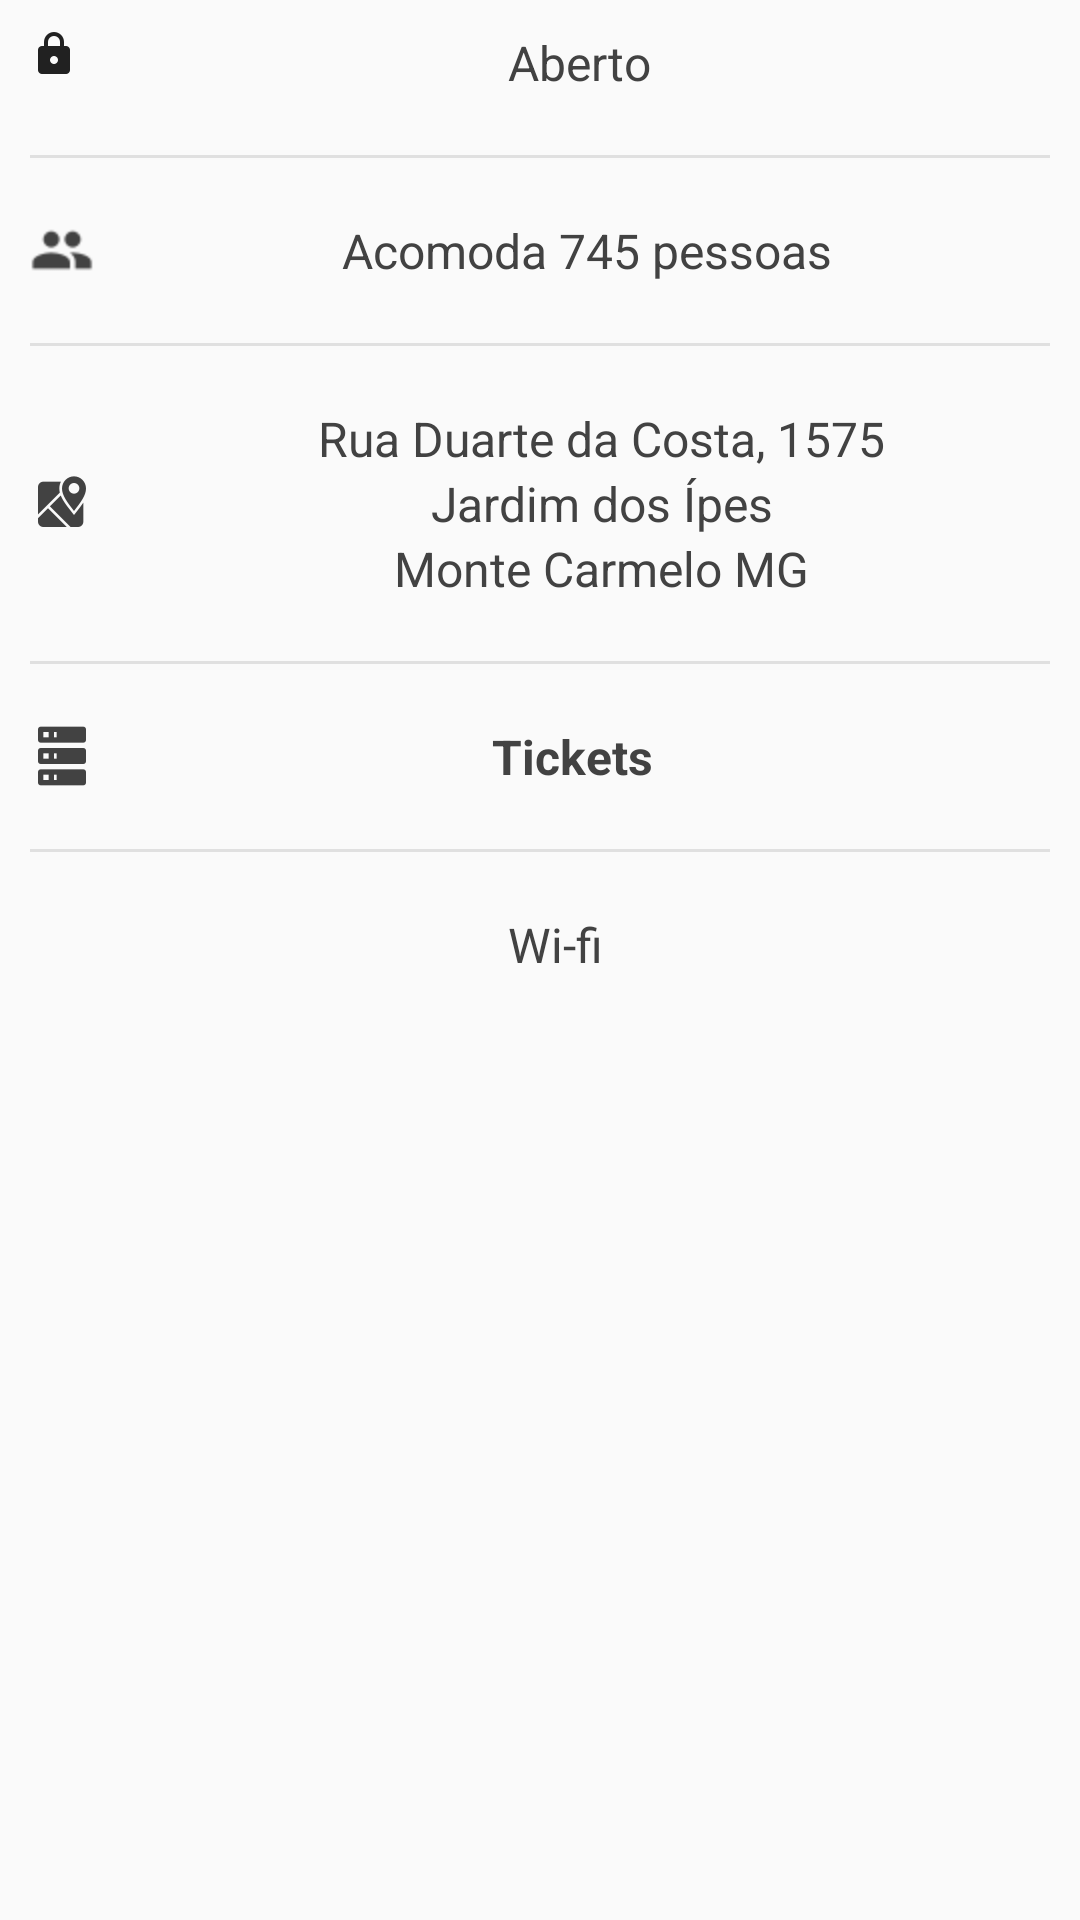

Icon bounding boxes for this 1080px×1920px phone screenshot, format box=[x1, y1, x2, y2]:
account multiple: box=[31, 230, 93, 270]
lock: box=[38, 32, 70, 74]
map: box=[38, 476, 86, 527]
tipos reserva: box=[38, 726, 86, 786]
